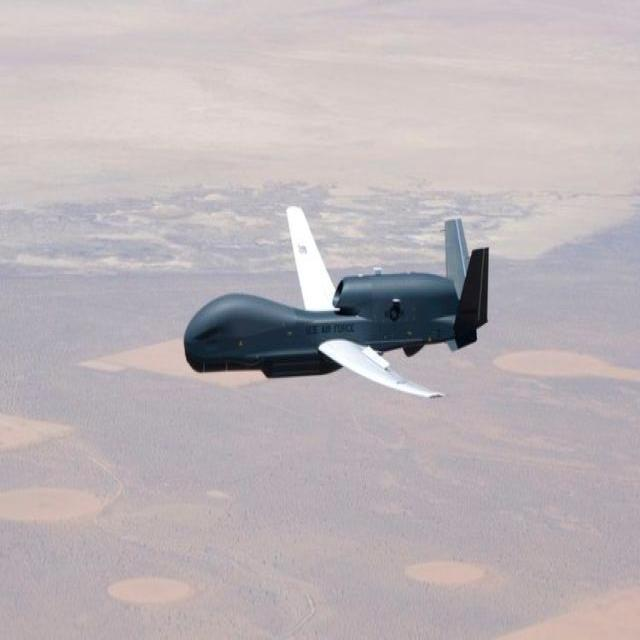iha: (187, 200, 500, 409)
